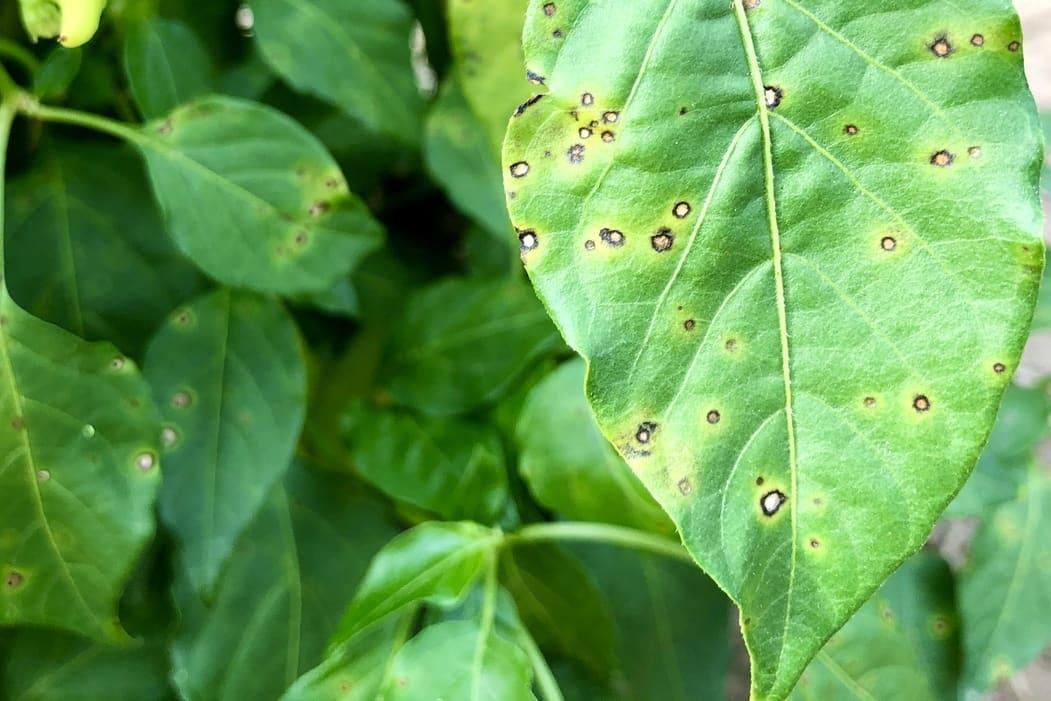black-spot: (582, 163, 963, 490)
